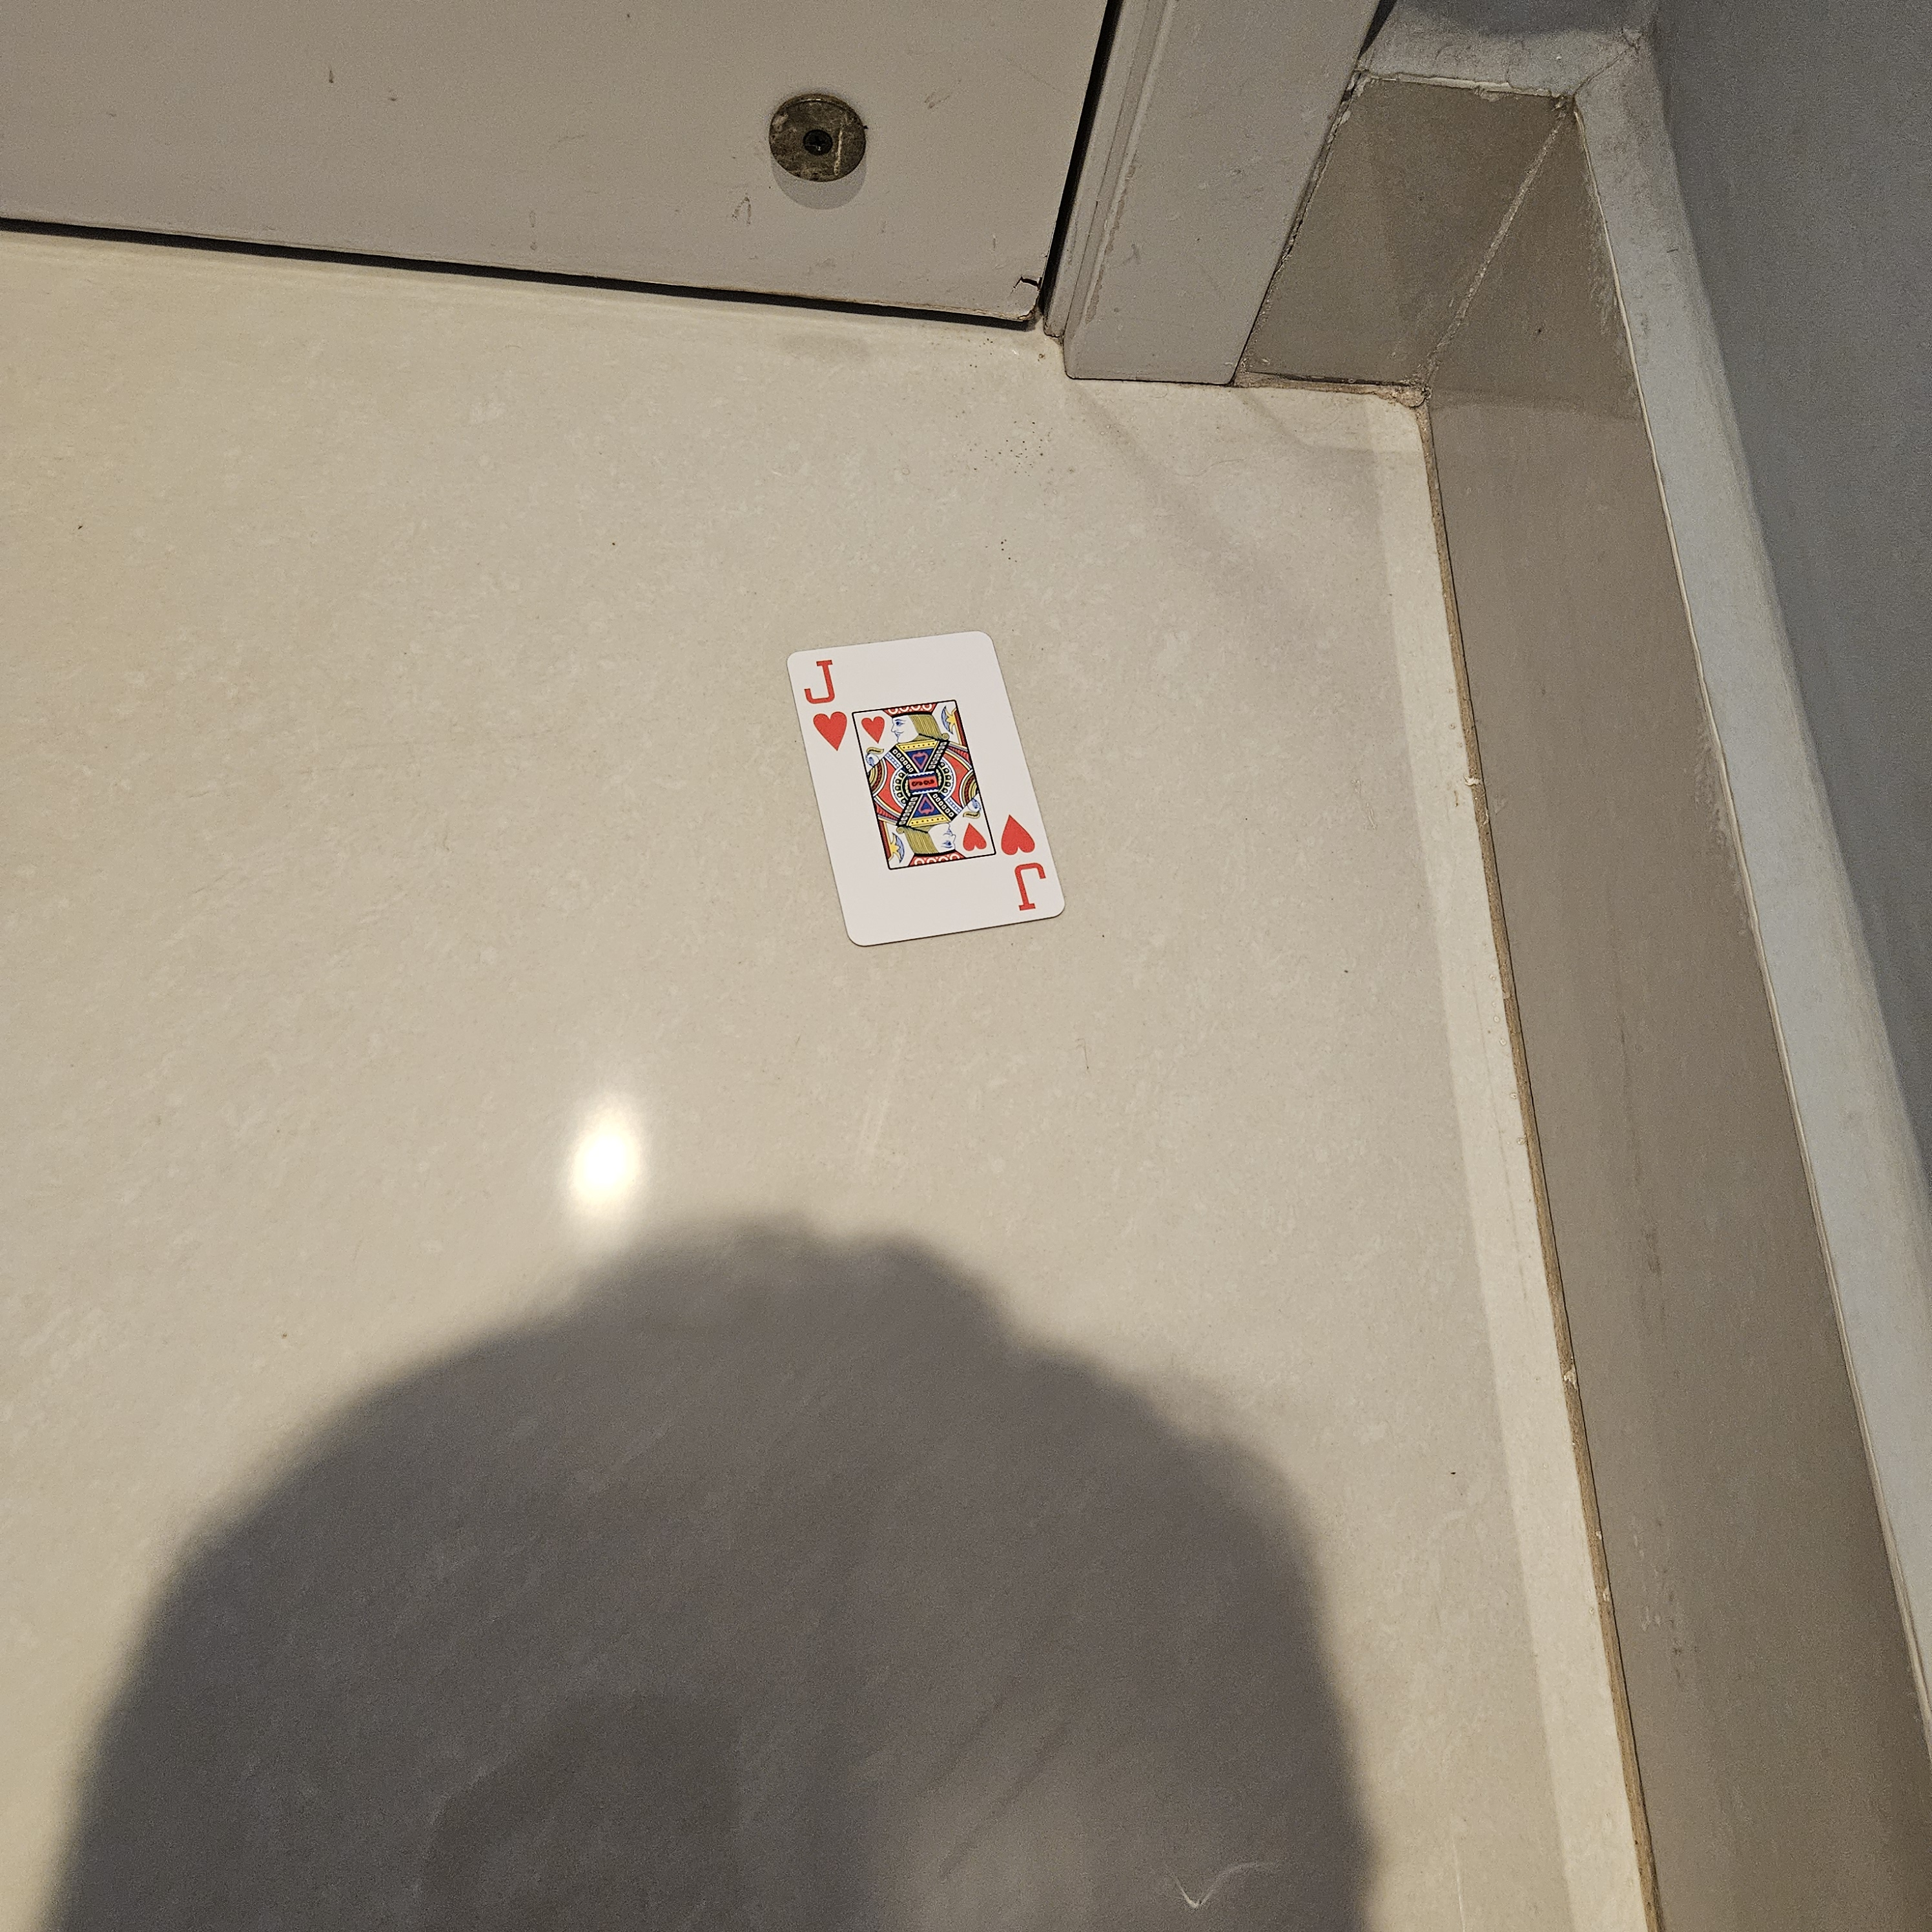JC: (993, 807, 1053, 915), (793, 649, 853, 757)
